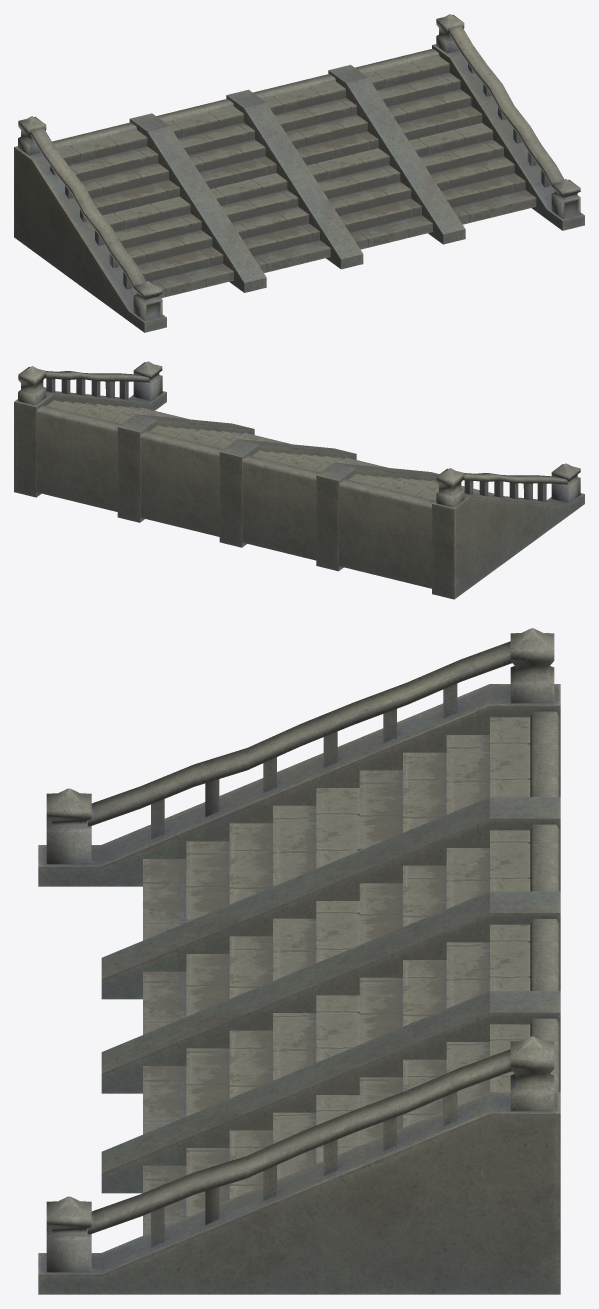
File: AD_Stair_B_01.fbx
3 views of the same model, one above another, from view 1: azimuth 30°, elevation 25°; view 2: azimuth 150°, elevation 25°; view 3: azimuth 270°, elevation 25° (orthographic). The views are drawn at different scales.
Parts seen in each view (by area): view 1: AD_Stair_B_01; view 2: AD_Stair_B_01; view 3: AD_Stair_B_01.
Part boxes in pixels (x1,y1,x2,y2): AD_Stair_B_01: (14, 14, 584, 332); AD_Stair_B_01: (14, 361, 584, 599); AD_Stair_B_01: (38, 628, 560, 1294).
Bounding box in the file's own units: 2606 × 697 × 1339.
Materials: 2 (2 with a texture image).
